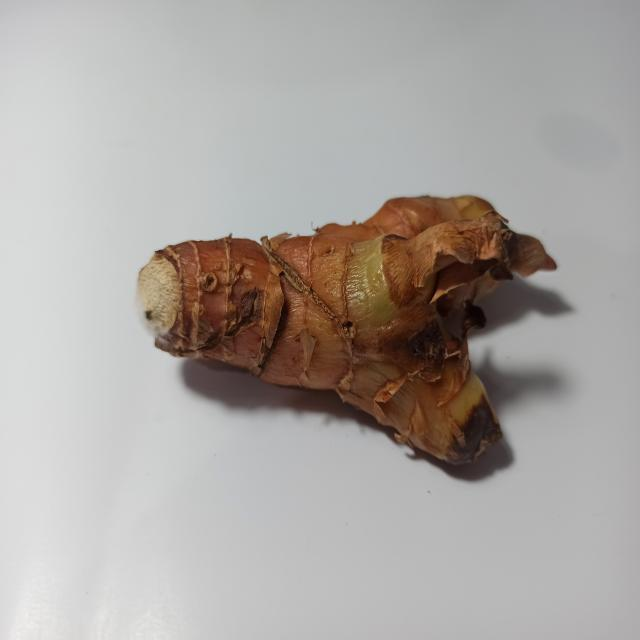ginger: (140, 157, 531, 438)
